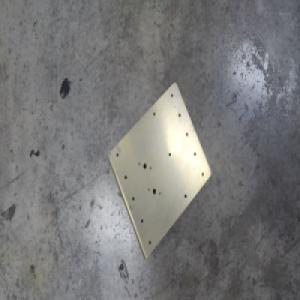MetalSheet: (106, 80, 212, 262)
